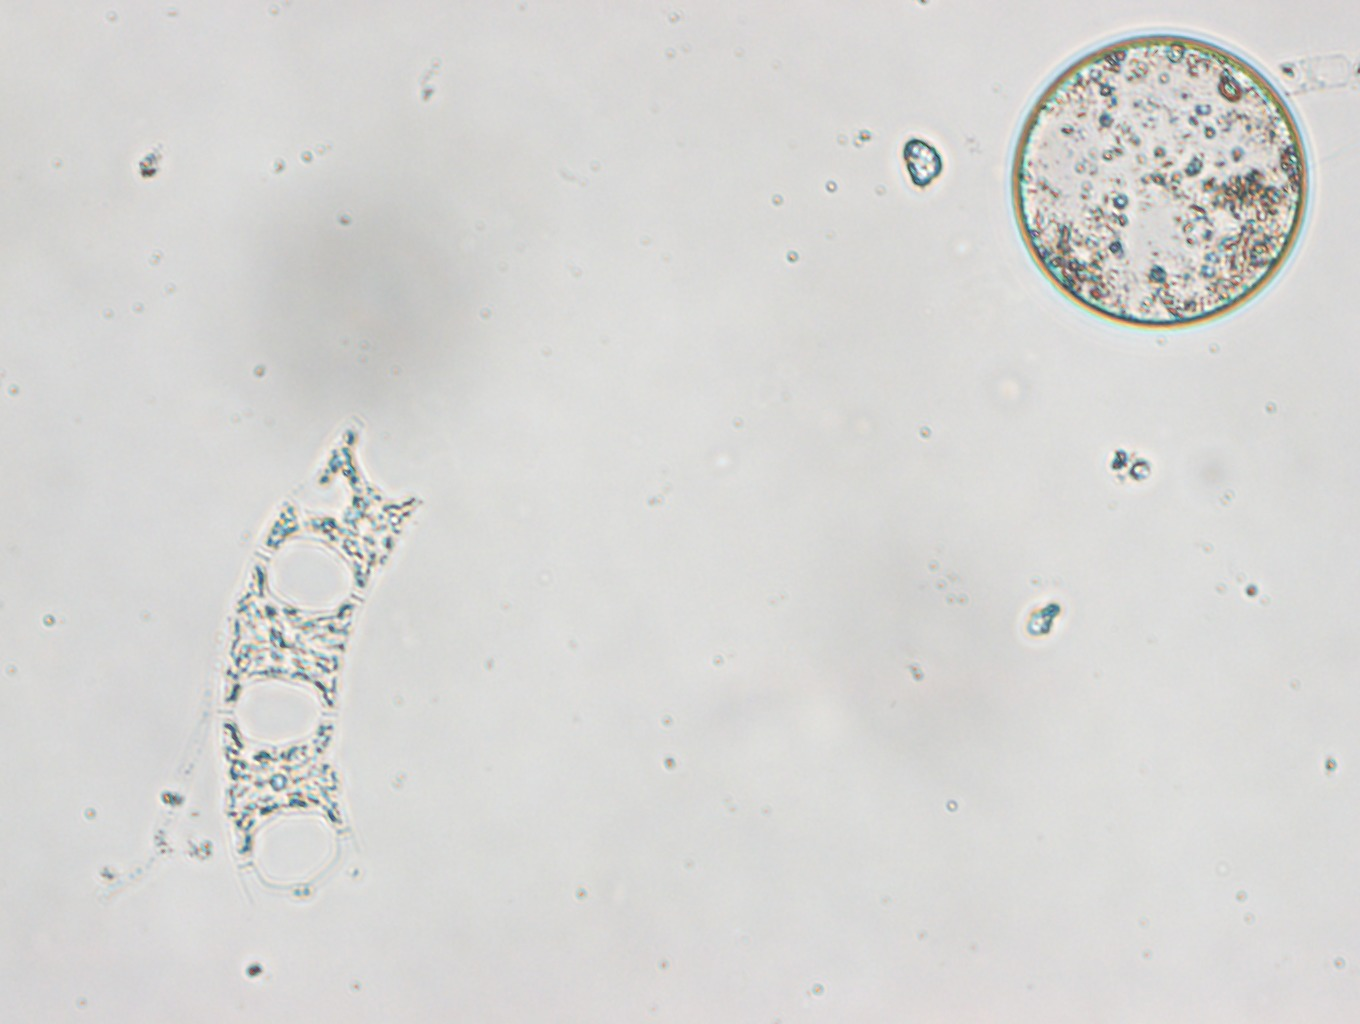coscinodiscus: (1010, 30, 1307, 327)
eucampia: (216, 414, 426, 914)
